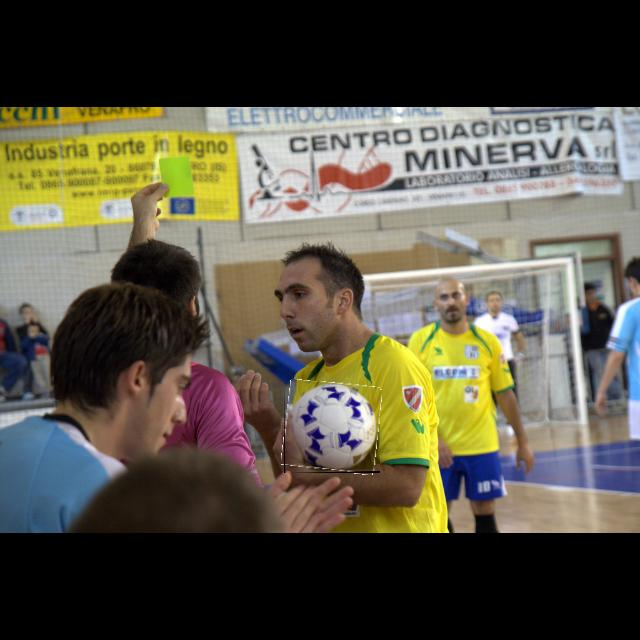Football: (284, 381, 380, 473)
